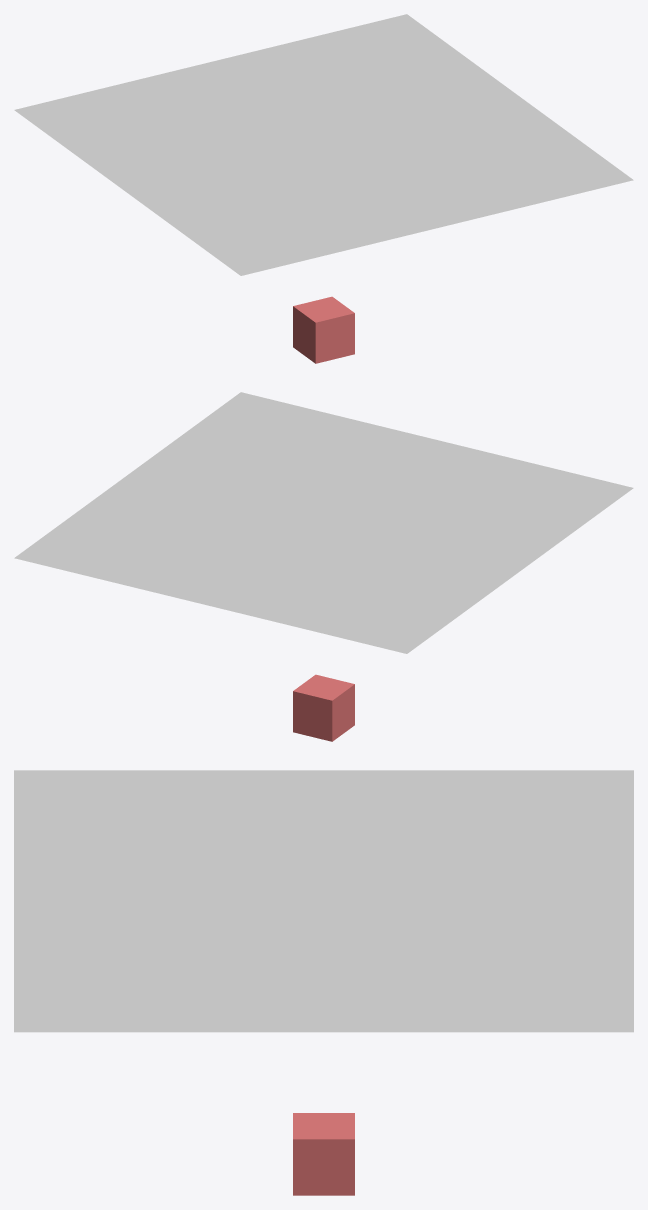
3 renders of one model, top to bottom at view 1: azimuth 30°, elevation 25°; view 2: azimuth 150°, elevation 25°; view 3: azimuth 270°, elevation 25°, orthographic. The views are drawn at different scales.
Size of the model in its own units: 10 by 5 by 10.
